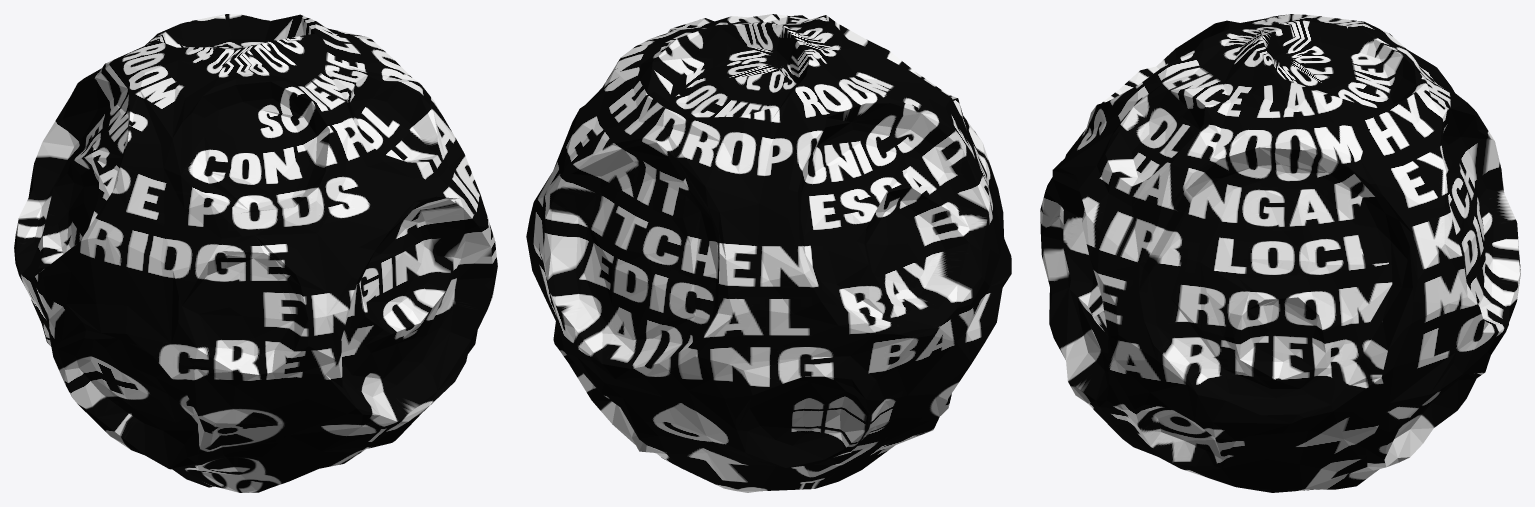
Rendered from space_SM_Env_Asteroid_05.gltf.
3 renders of one model, left to right at view 1: azimuth 30°, elevation 25°; view 2: azimuth 150°, elevation 25°; view 3: azimuth 270°, elevation 25°, orthographic. The views are drawn at different scales.
Parts seen in each view (by area): view 1: SM_Env_Asteroid_05; view 2: SM_Env_Asteroid_05; view 3: SM_Env_Asteroid_05.
Boxes of the visible parts, x1,y1,x2,y2 form: SM_Env_Asteroid_05: (14, 14, 497, 492); SM_Env_Asteroid_05: (526, 14, 1011, 492); SM_Env_Asteroid_05: (1040, 14, 1520, 492).
Bounding box in the file's own units: 262 × 261 × 267.
Materials: 1 (1 with a texture image).
